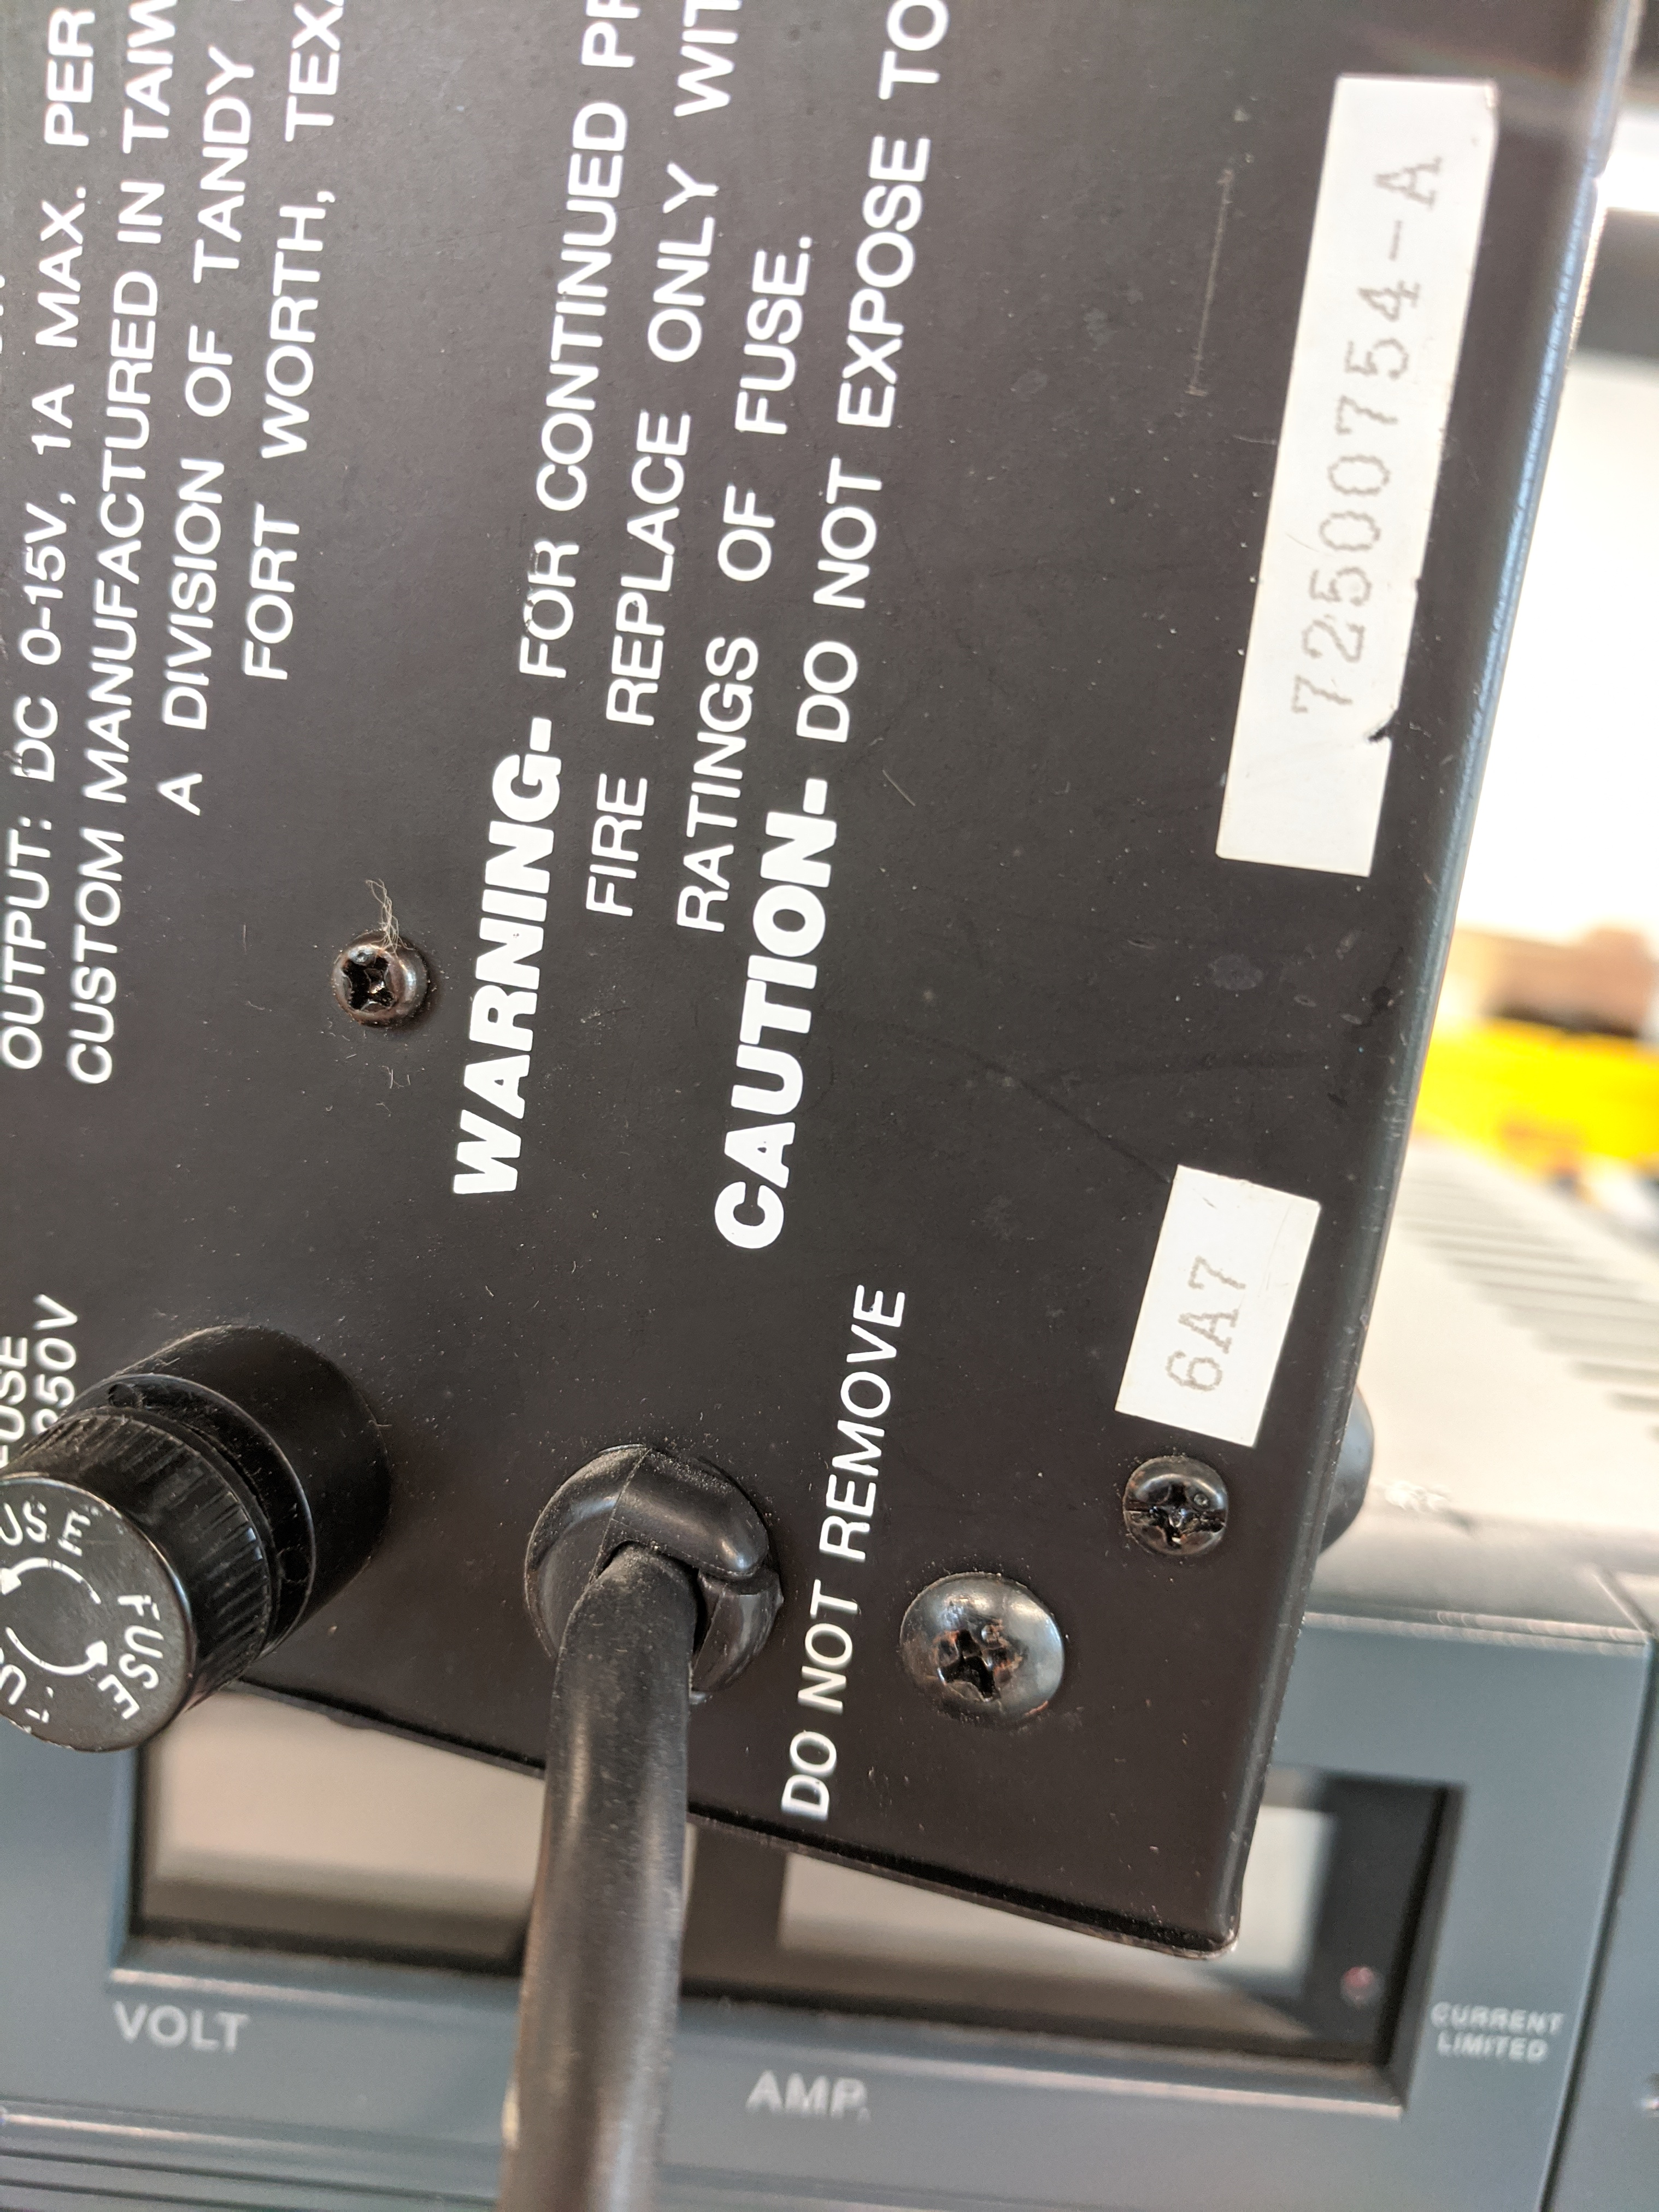cross_recessed_screw: (899, 1564, 1058, 1726), (1115, 1449, 1234, 1557), (308, 923, 418, 1022)
